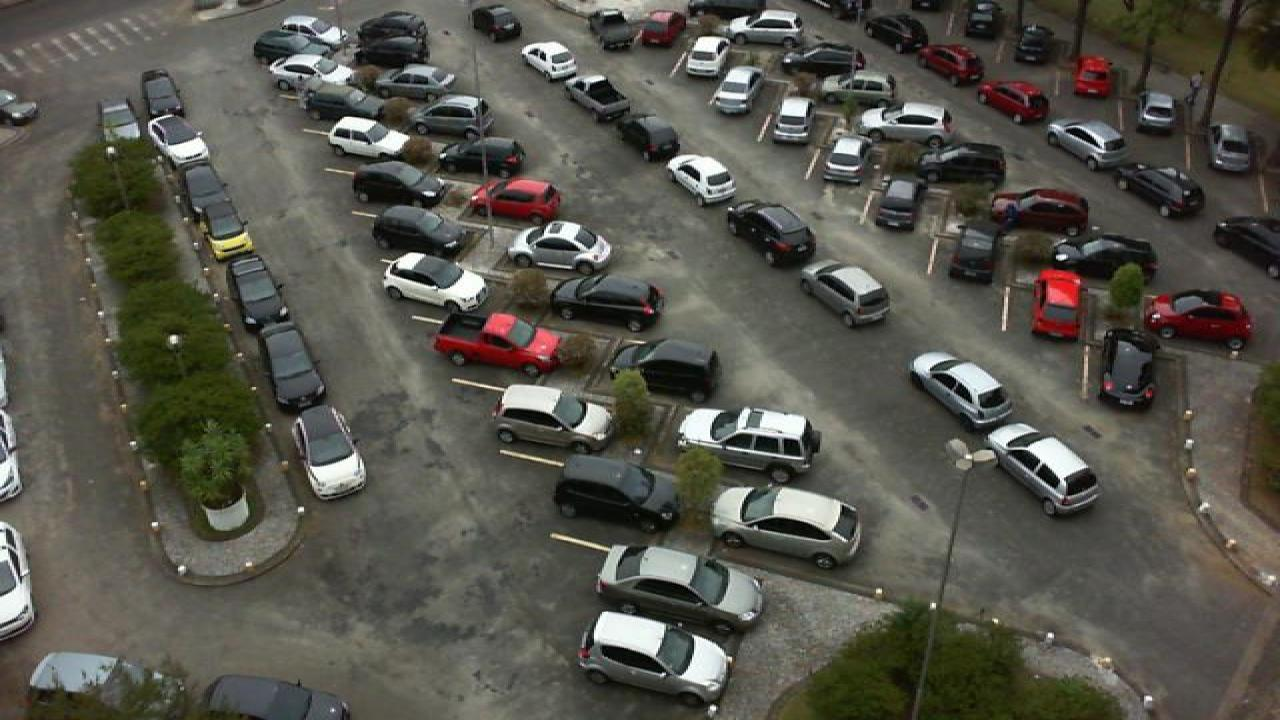Car: (590, 540, 768, 634), (574, 608, 740, 708), (708, 478, 870, 572), (672, 400, 826, 488), (550, 450, 686, 539), (24, 650, 196, 720), (990, 418, 1106, 521), (430, 308, 566, 385), (906, 347, 1020, 436), (490, 380, 616, 460), (606, 331, 724, 406), (376, 245, 494, 316), (1140, 284, 1258, 354), (290, 402, 370, 505), (548, 271, 668, 339), (796, 257, 898, 333), (200, 671, 354, 720), (720, 198, 820, 271), (504, 217, 616, 278), (1042, 230, 1164, 286), (1094, 326, 1168, 415), (258, 326, 328, 415), (1110, 160, 1210, 222), (364, 202, 466, 262), (346, 156, 450, 210), (988, 184, 1092, 236), (1042, 115, 1132, 174), (226, 253, 290, 335), (910, 137, 1010, 186), (470, 177, 566, 227), (1028, 267, 1090, 344), (942, 214, 1008, 284), (1208, 210, 1280, 274), (436, 135, 528, 183), (664, 151, 740, 209), (972, 75, 1054, 127), (562, 71, 638, 127), (860, 100, 956, 144), (406, 94, 496, 140), (300, 76, 388, 122), (610, 112, 682, 168), (324, 114, 410, 160), (142, 112, 210, 168), (916, 39, 988, 90), (248, 30, 334, 72), (198, 203, 258, 262), (268, 52, 352, 94), (374, 62, 460, 103), (782, 42, 870, 82), (170, 162, 236, 215), (1204, 118, 1260, 179), (810, 69, 898, 107), (520, 37, 586, 87), (348, 30, 430, 70), (712, 63, 770, 118), (874, 174, 928, 233), (816, 132, 874, 186), (680, 32, 738, 86), (730, 8, 808, 48), (766, 92, 820, 148), (864, 12, 930, 57), (354, 9, 430, 45), (586, 8, 644, 54), (280, 12, 350, 50), (1132, 86, 1182, 138), (1070, 52, 1120, 101), (468, 1, 524, 44), (138, 67, 186, 117), (1010, 20, 1056, 68), (638, 8, 690, 49), (962, 0, 1008, 40)
